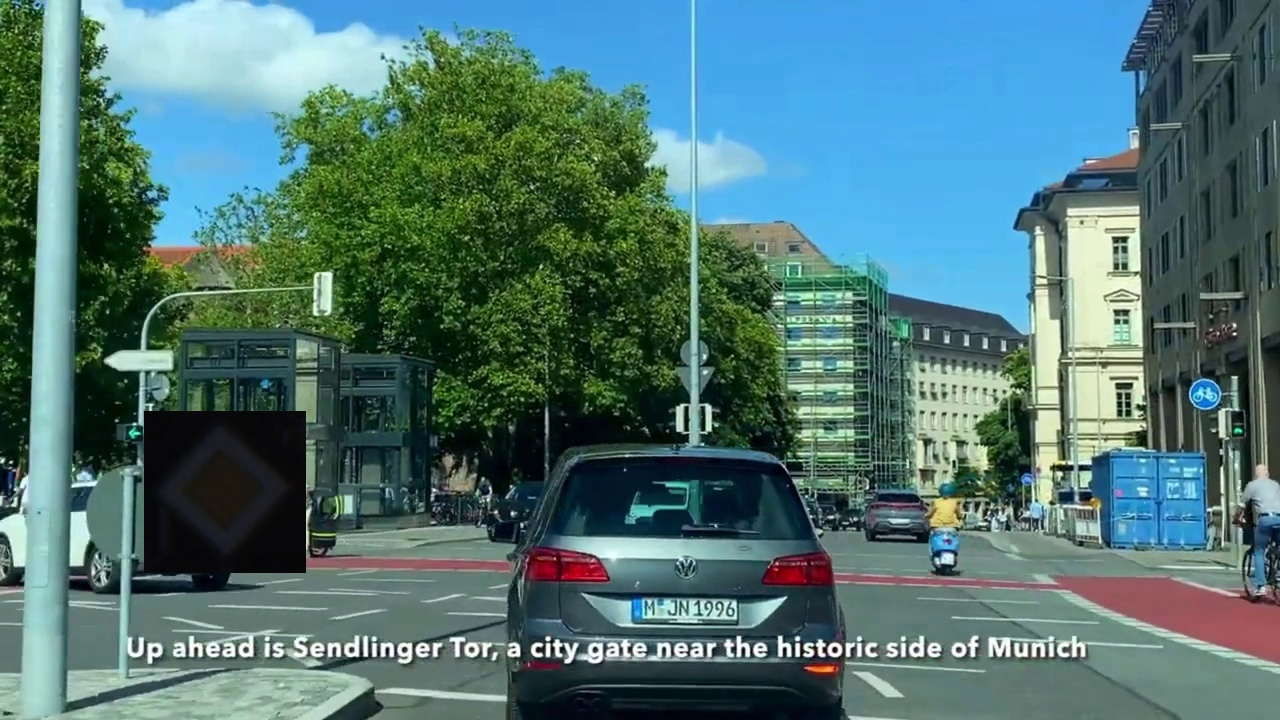Priority road: (144, 411, 306, 573)
